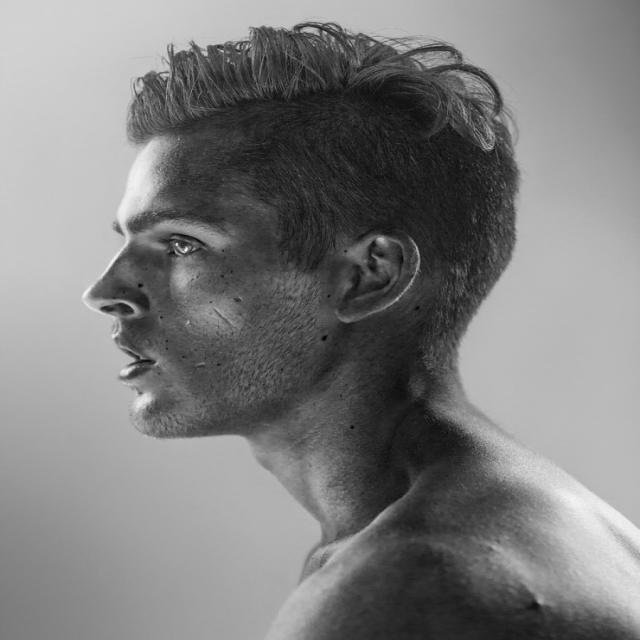earlobe: (338, 227, 420, 324)
